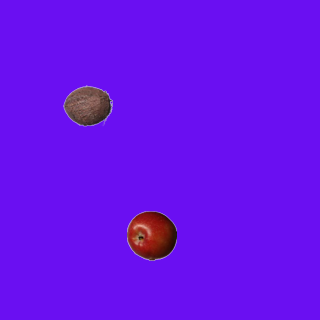Apple Braeburn: (126, 210, 176, 260)
Cocos: (62, 80, 112, 130)
